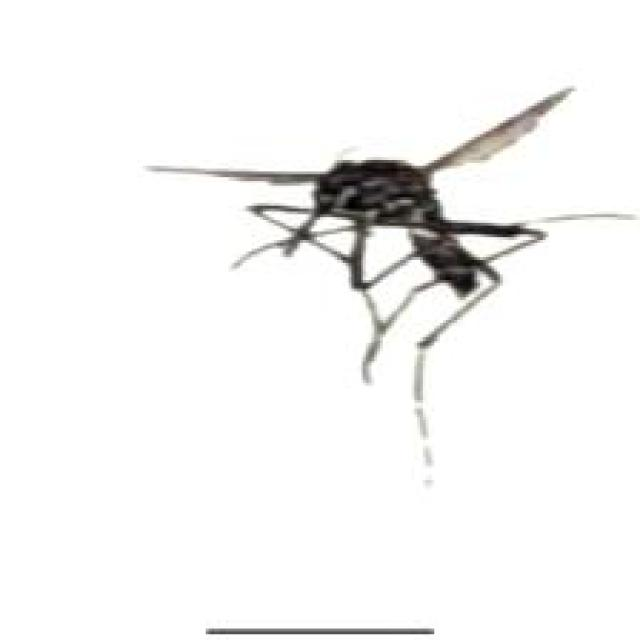Aedes albopictus: (143, 83, 640, 488)
